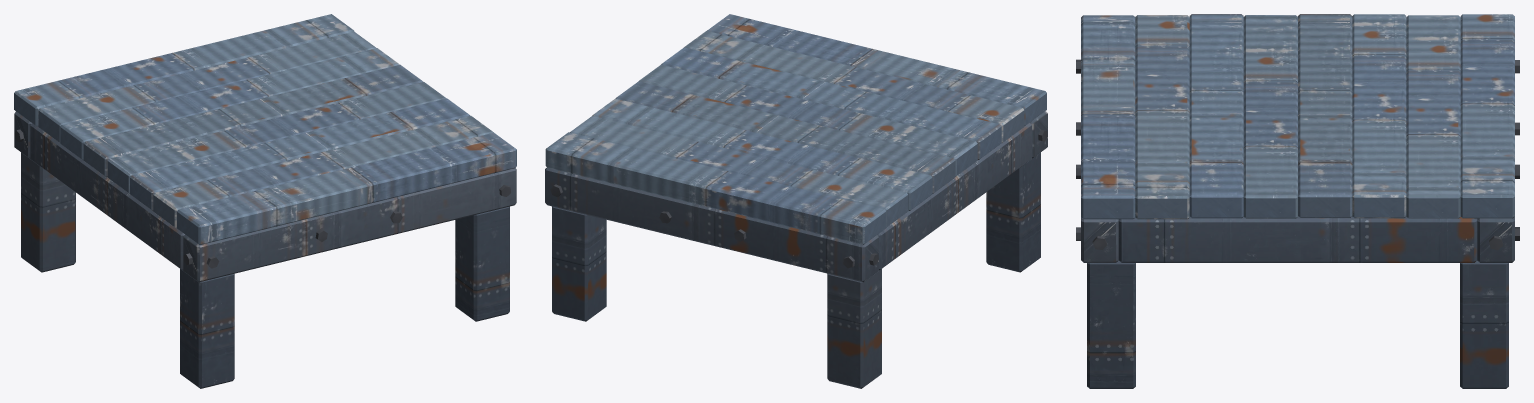
File: kare_temel.glb
3 renders of one model, left to right at view 1: azimuth 30°, elevation 25°; view 2: azimuth 150°, elevation 25°; view 3: azimuth 270°, elevation 25°, orthographic. The views are drawn at different scales.
Visible parts, largest first — view 1: kare_temel; view 2: kare_temel; view 3: kare_temel.
Part boxes in pixels (x1=…): kare_temel: x1=14, y1=14, x2=516, y2=388; kare_temel: x1=545, y1=14, x2=1047, y2=388; kare_temel: x1=1076, y1=14, x2=1519, y2=388.
Size of the model in its own units: 3.07 by 1.5 by 3.07.
1 material, 1 textured.
